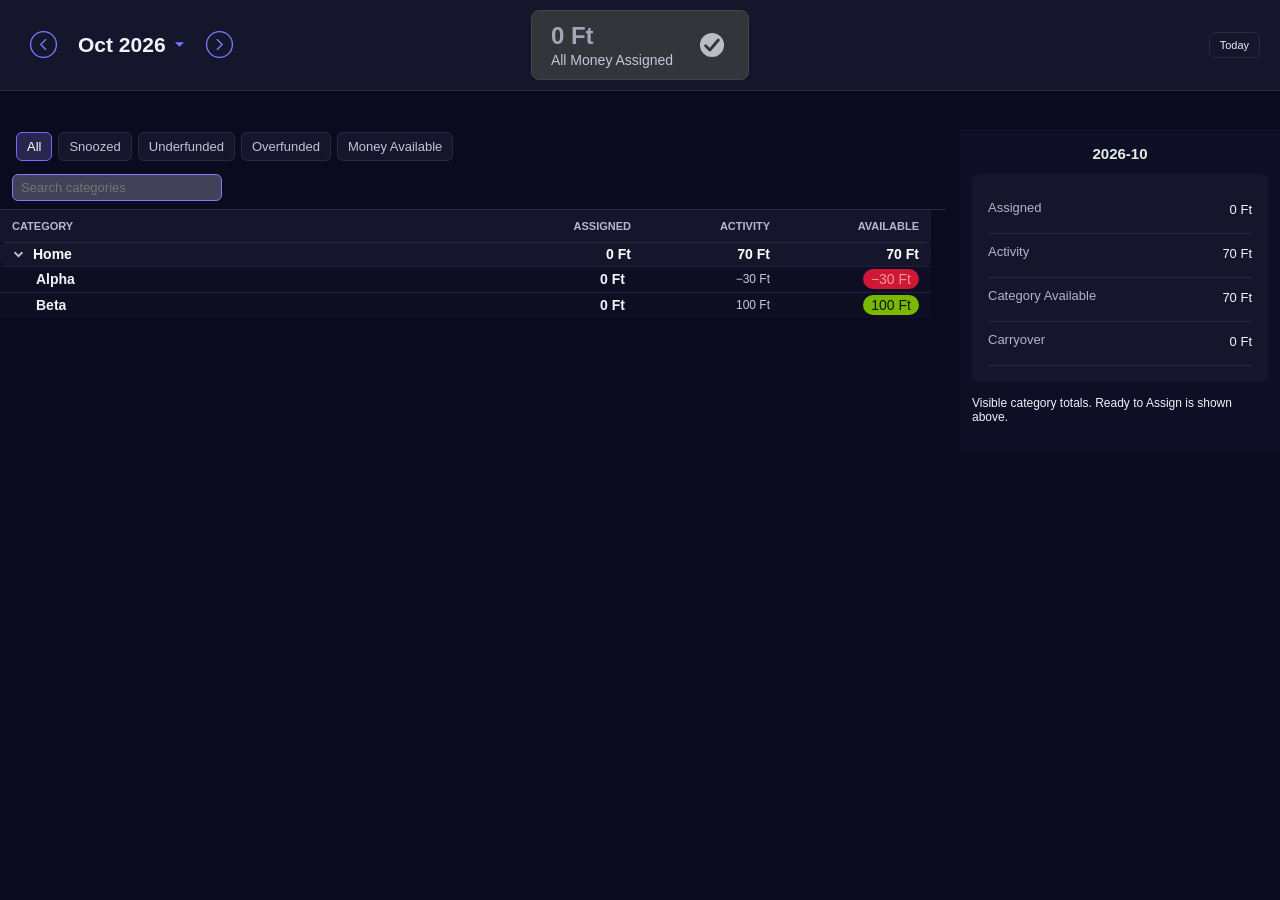
shows signed, newest-first activity in a scrollable five-column table with a fixed Close footer
The image size is (1280, 900).
Click the 1st button "−30 Ft". click: (753, 279)
box: [736,272,770,286]
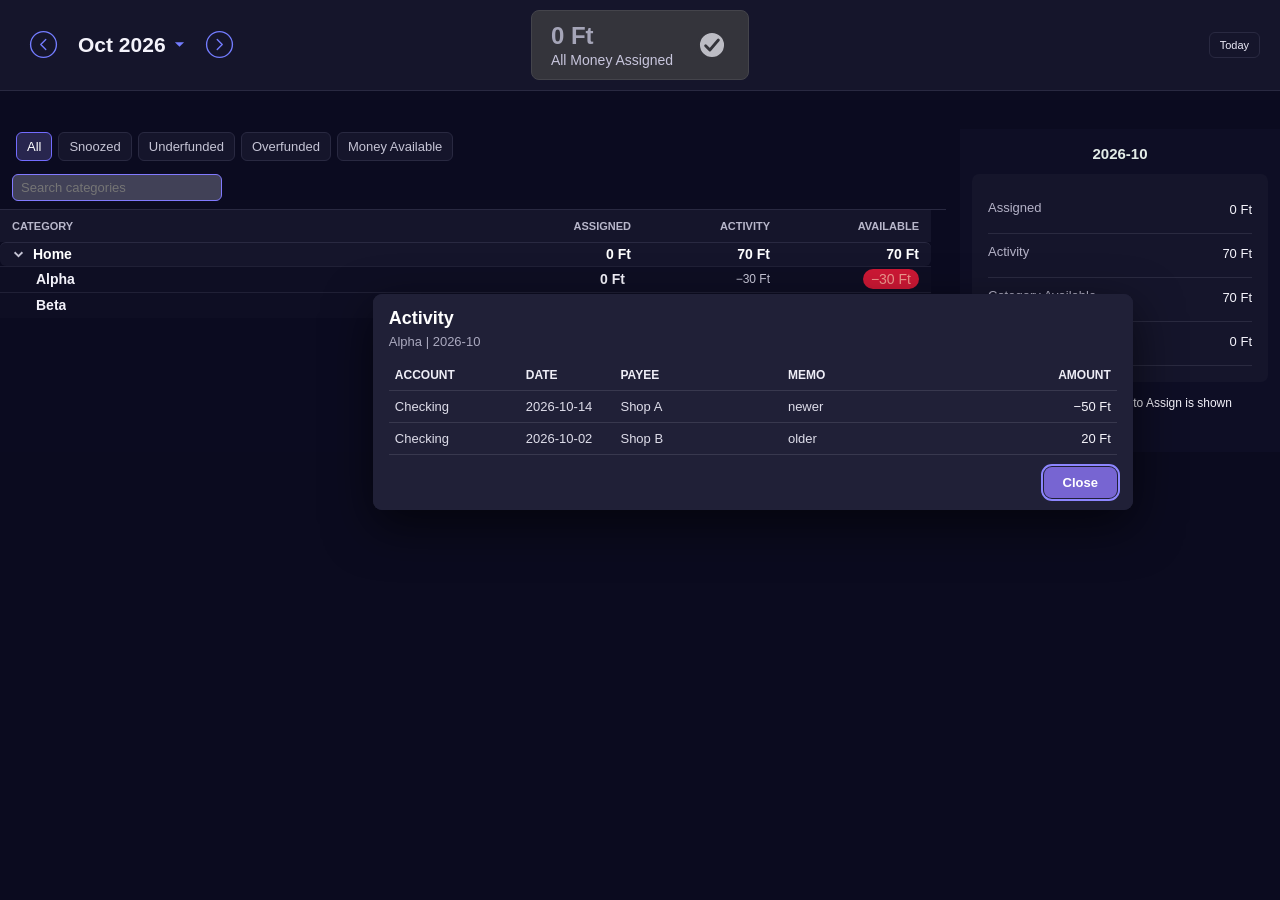
expect the cell "−50 Ft" is shown: met, box [964,391,1117,423]
expect the button "Close" is shown: met, box [1044,467,1117,498]
